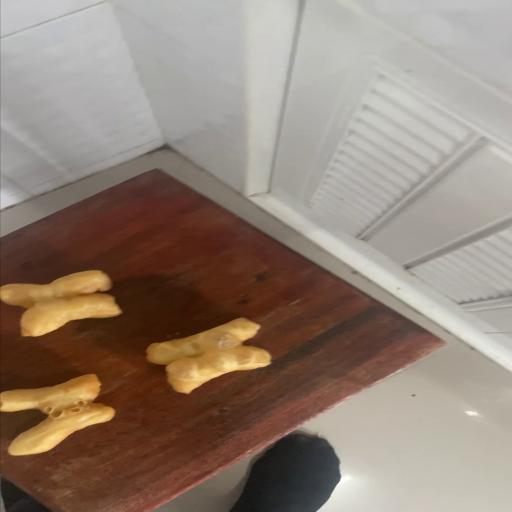street_golden_defect: (0, 374, 115, 456), (148, 319, 271, 394)
